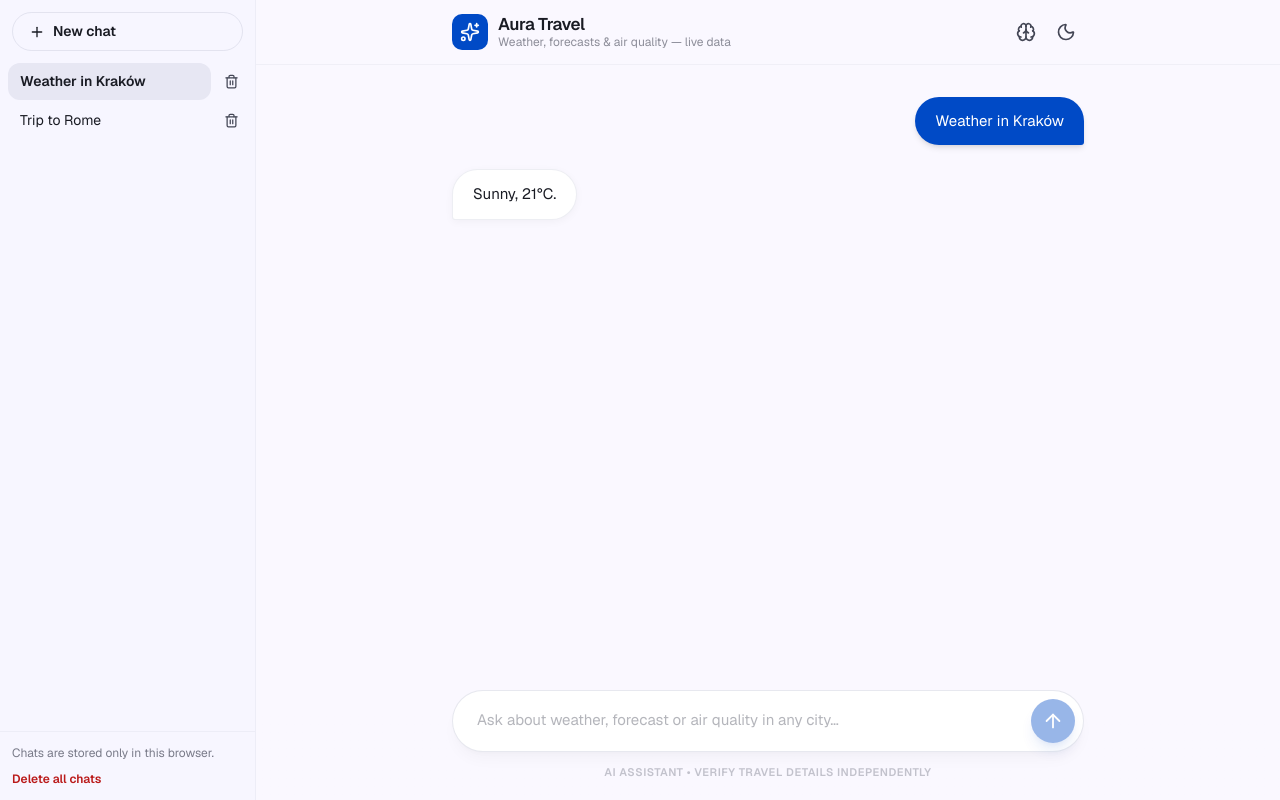
Scenario: Chat frame › starts a new chat and focuses the composer
This screenshot has width=1280, height=800.
Expected: the text "Sunny, 21°C." is shown, left=452, top=169, right=577, bottom=220
Click the button "New chat".
click(128, 32)  # box left=12, top=12, right=243, bottom=51
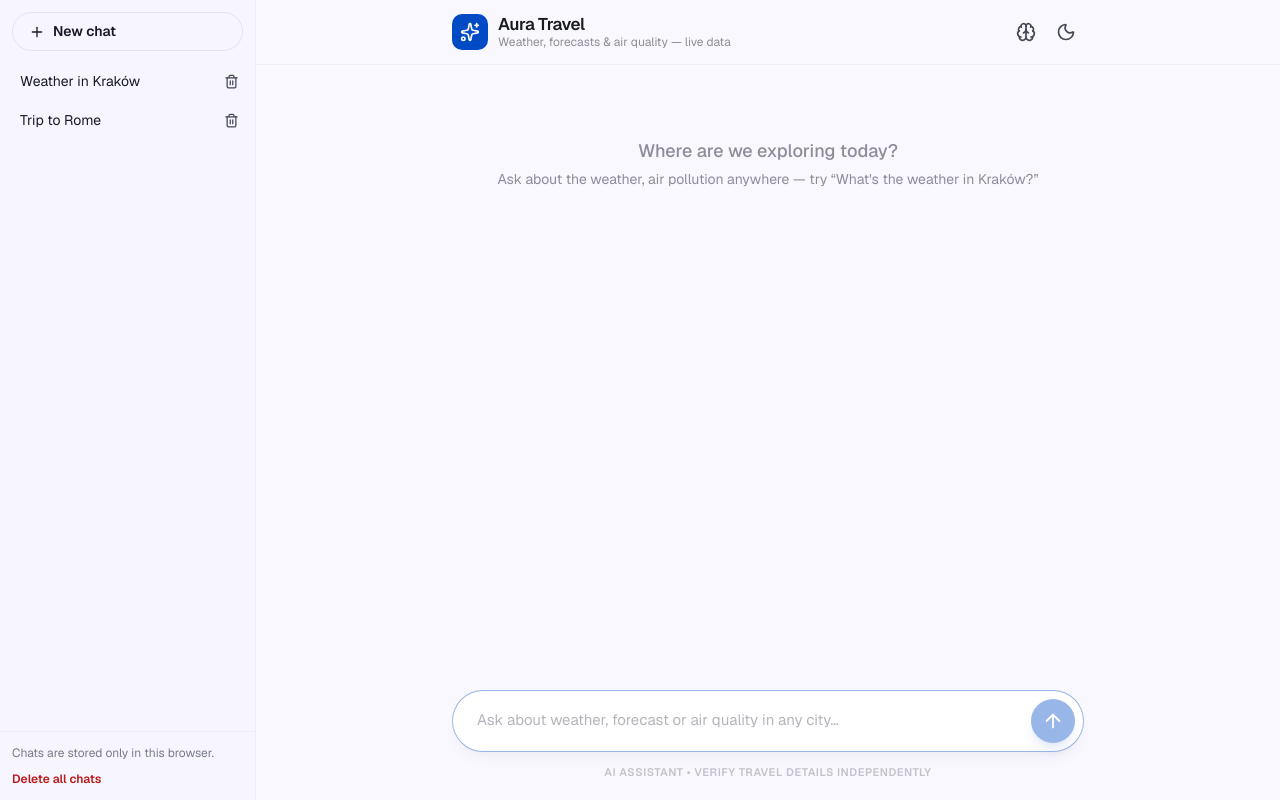
Expected: the text "Where are we exploring today?" is shown, left=638, top=139, right=898, bottom=162
